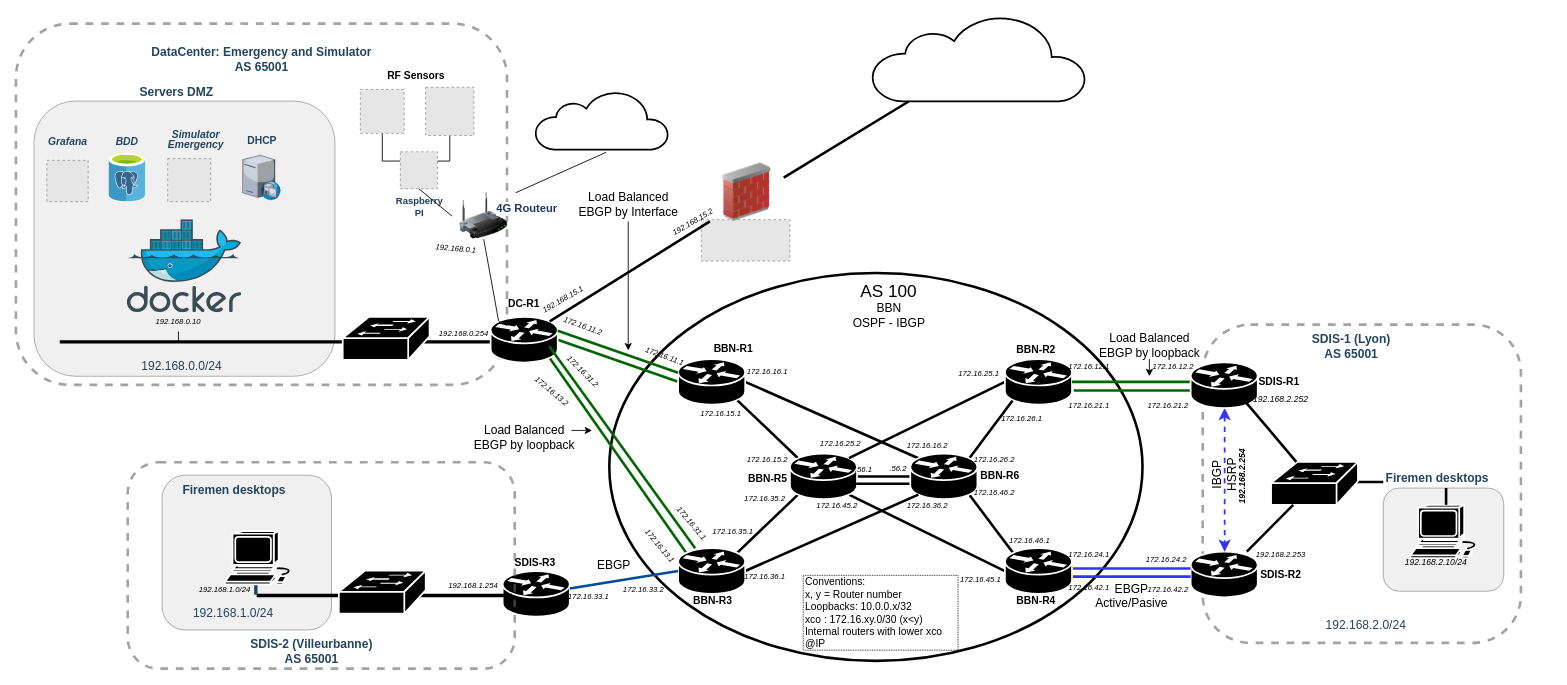
Image size: 1567x685. Some labels were removed from this diagram. Grey dashed boxes stand in for pictures. The centre of each missing label's shape, as x and y in pixels:
Internet: pixel 979 58
Internet temporaire: pixel 601 120
